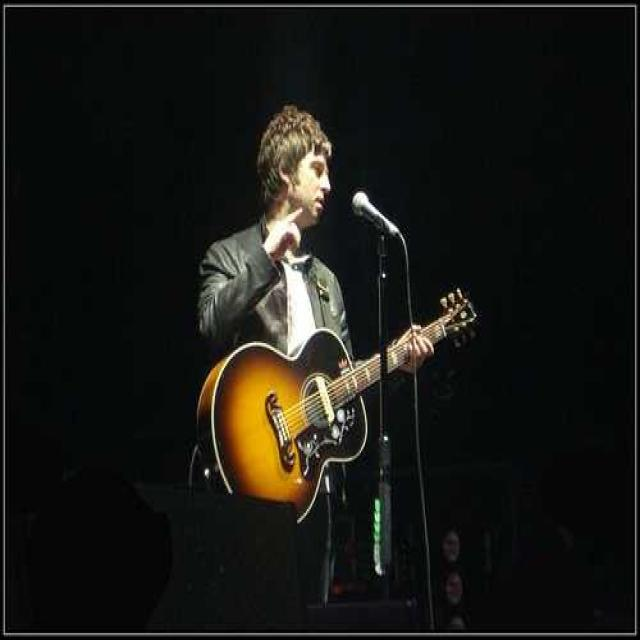microphone: (351, 188, 403, 242)
